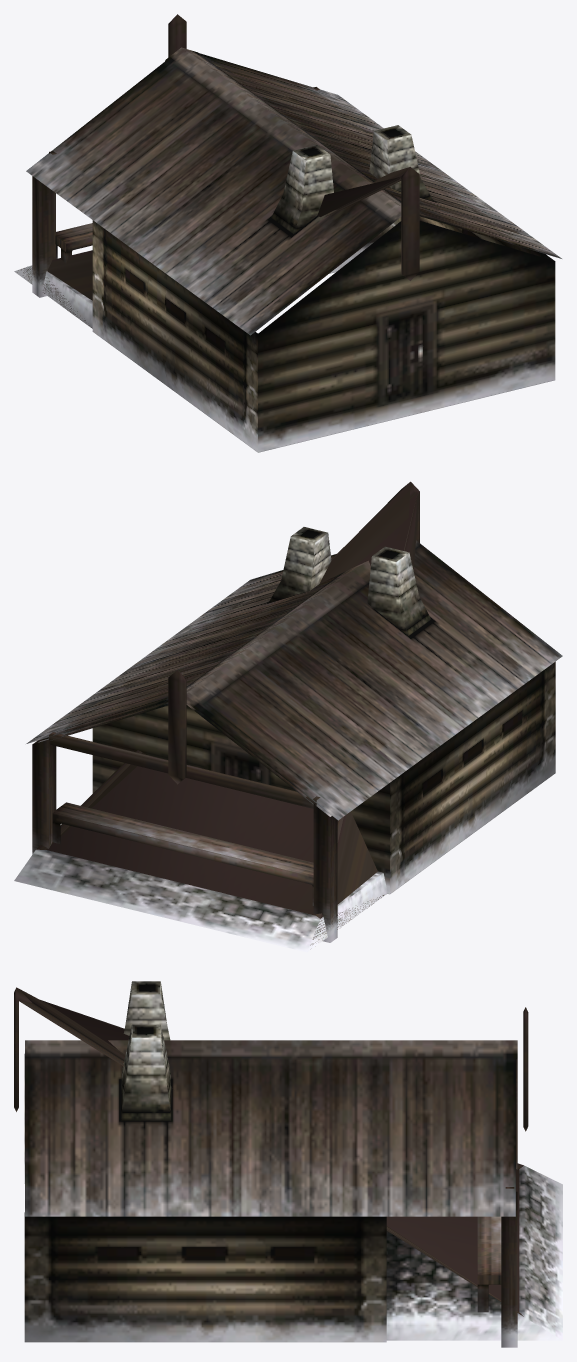
File: stbuho28.dae
The picture shows the model from 3 angles, top to bottom: view 1: azimuth 30°, elevation 25°; view 2: azimuth 150°, elevation 25°; view 3: azimuth 270°, elevation 25°; orthographic projection. The views are drawn at different scales.
Visible parts, largest first — view 1: shop, roof3; view 2: shop, kitchen, roof3; view 3: shop, kitchen, roof3.
Part boxes in pixels (x1,y1,x2,y2): shop: (14, 14, 561, 452); roof3: (17, 167, 409, 327); shop: (14, 482, 562, 952); kitchen: (46, 489, 417, 915); roof3: (36, 482, 419, 945); shop: (14, 981, 562, 1347); kitchen: (20, 1000, 519, 1311); roof3: (14, 987, 523, 1316).
Bounding box in the file's own units: 4.83 × 6.73 × 3.8.
Materials: 1 (1 with a texture image).
